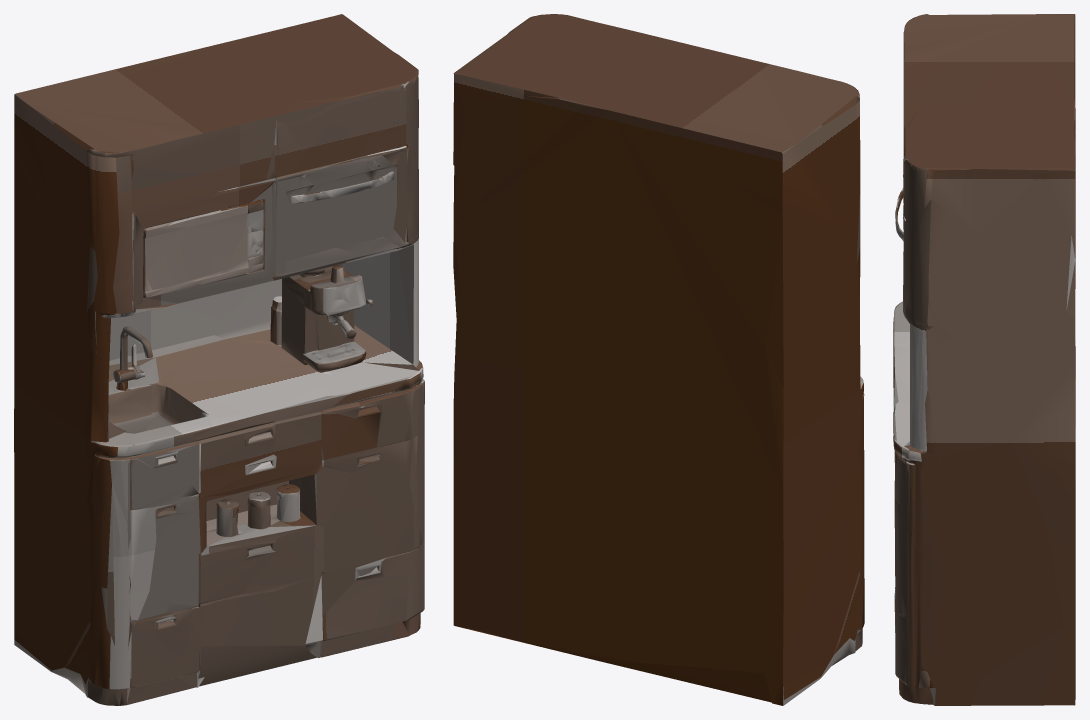
Rendered from cab_galley.glb.
The picture shows the model from 3 angles, left to right: view 1: azimuth 30°, elevation 25°; view 2: azimuth 150°, elevation 25°; view 3: azimuth 270°, elevation 25°; orthographic projection. The views are drawn at different scales.
Visible parts, largest first — view 1: LO; view 2: LO; view 3: LO.
Boxes of the visible parts, x1,y1,x2,y2 form: LO: (14, 14, 424, 705); LO: (453, 14, 864, 705); LO: (893, 14, 1075, 705).
Bounding box in the file's own units: 1.22 × 1.95 × 0.5998.
1 material, 1 textured.
